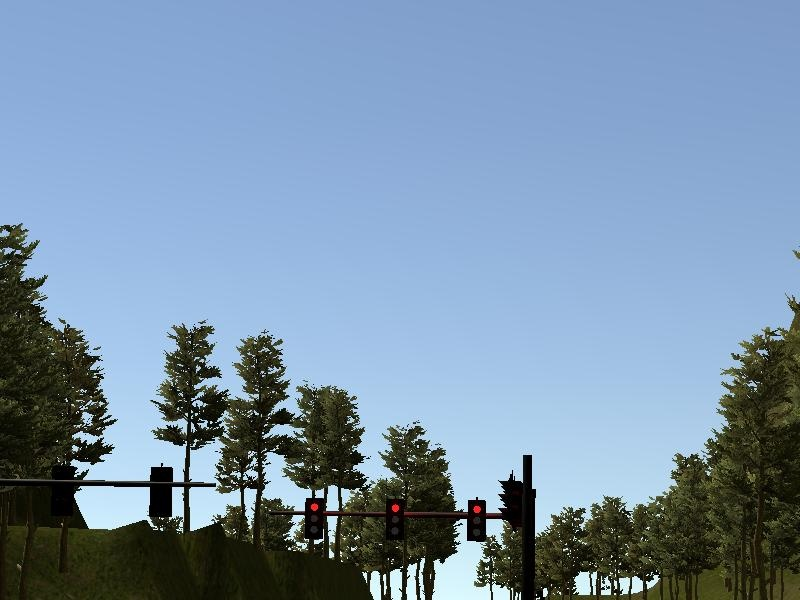red: (385, 498, 406, 541), (466, 499, 487, 542), (304, 497, 324, 539)
